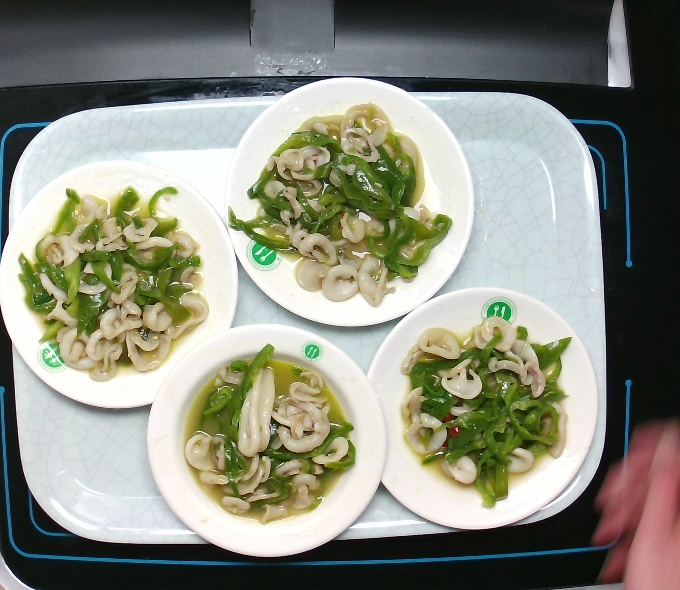wcq-QingJiaoYouYu: (226, 103, 458, 310), (12, 181, 212, 379), (396, 315, 582, 512), (174, 344, 360, 524)
